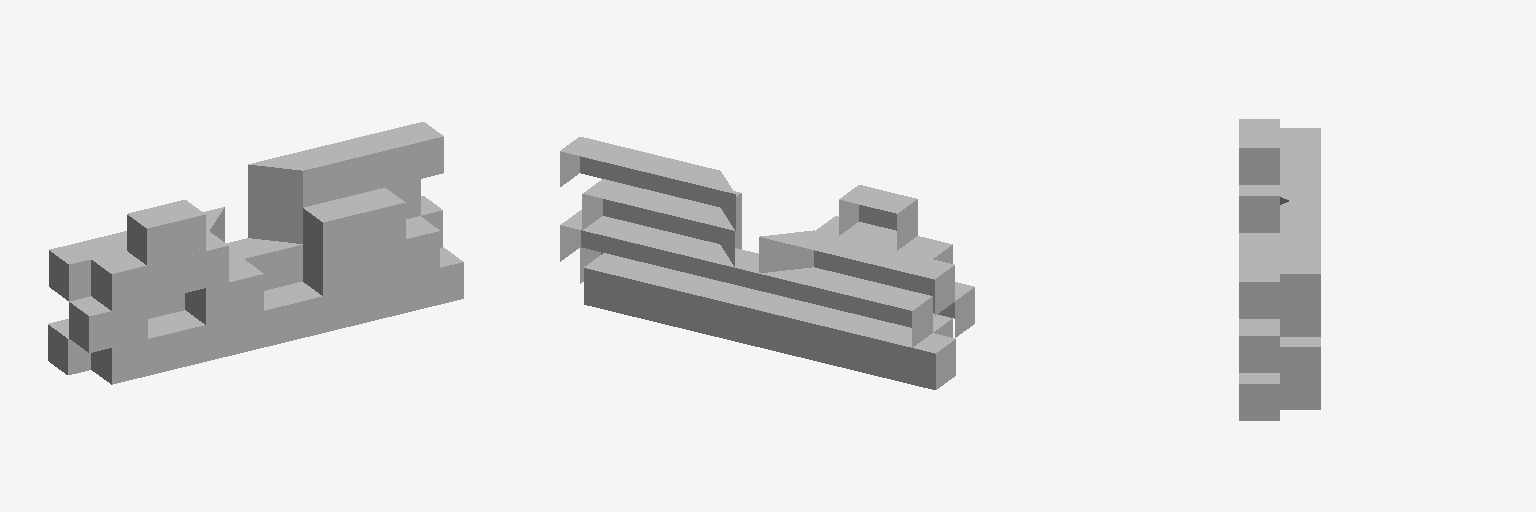
File: Top Slot _ 1 Damaged.obj
The picture shows the model from 3 angles: view 1: azimuth 30°, elevation 25°; view 2: azimuth 150°, elevation 25°; view 3: azimuth 270°, elevation 25°; orthographic projection.
Visible parts, largest first — view 1: Top_Slot_2_Damaged; view 2: Top_Slot_2_Damaged; view 3: Top_Slot_2_Damaged.
Part boxes in pixels (x1,y1,x2,y2): Top_Slot_2_Damaged: (48, 122, 463, 384); Top_Slot_2_Damaged: (560, 137, 974, 389); Top_Slot_2_Damaged: (1239, 119, 1320, 420).
Size of the model in its own units: 1.6 by 0.6 by 0.3.